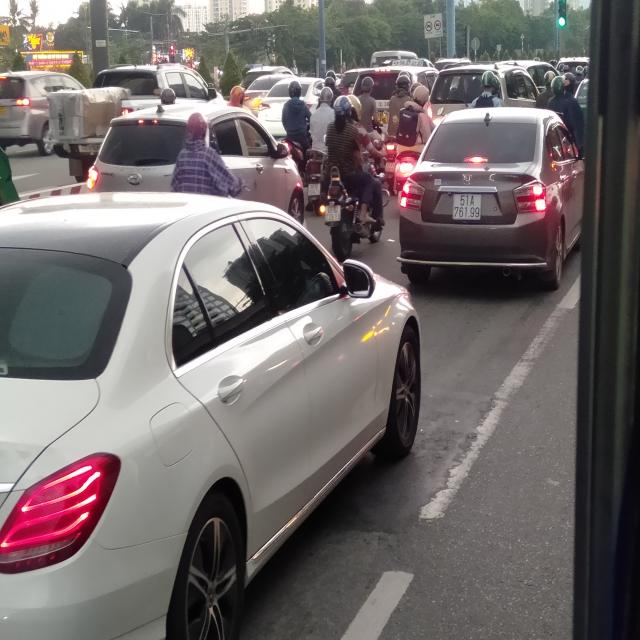bien_trang: (455, 195, 482, 222)
